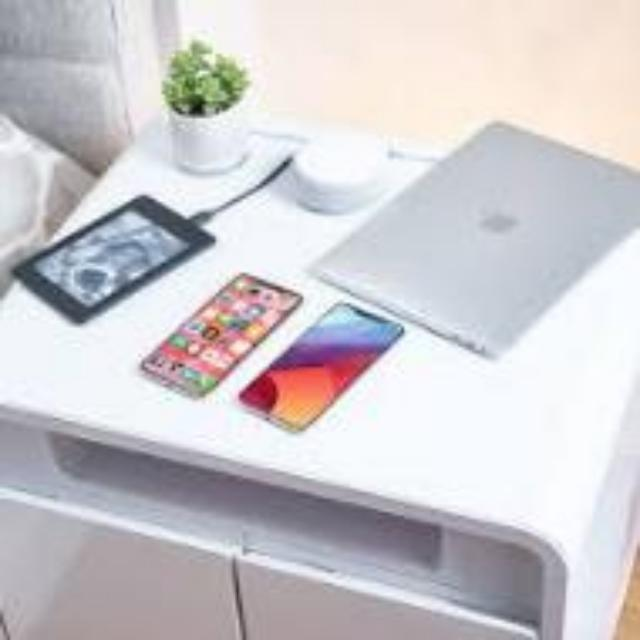phone: (142, 259, 410, 445)
